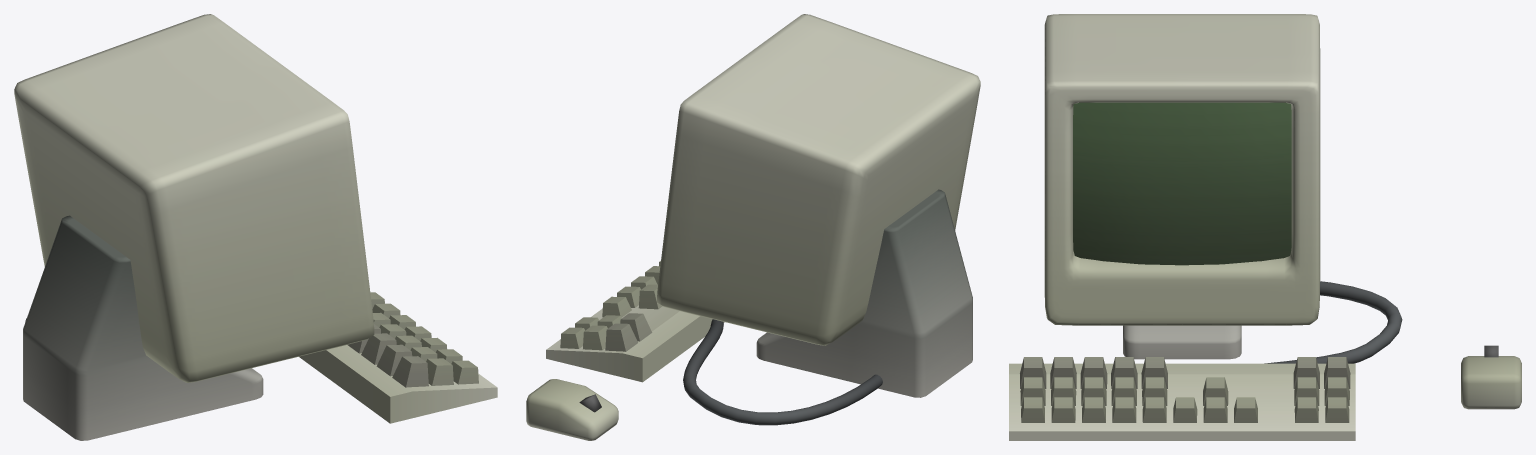
File: computer.fbx
The picture shows the model from 3 angles, left to right: view 1: azimuth 30°, elevation 25°; view 2: azimuth 150°, elevation 25°; view 3: azimuth 270°, elevation 25°; orthographic projection. The views are drawn at different scales.
Parts seen in each view (by area): view 1: computer, keyboard; view 2: computer, keyboard, mouse; view 3: computer, keyboard, mouse.
Boxes of the visible parts, <box> form: computer: <box>14,14,374,440</box>; keyboard: <box>25,292,497,423</box>; computer: <box>657,14,980,397</box>; keyboard: <box>546,261,882,425</box>; mouse: <box>526,379,618,440</box>; computer: <box>1044,14,1320,359</box>; keyboard: <box>1009,281,1402,440</box>; mouse: <box>1461,345,1521,409</box>.
Bounding box in the file's own units: 48.24 × 38.72 × 60.98.
